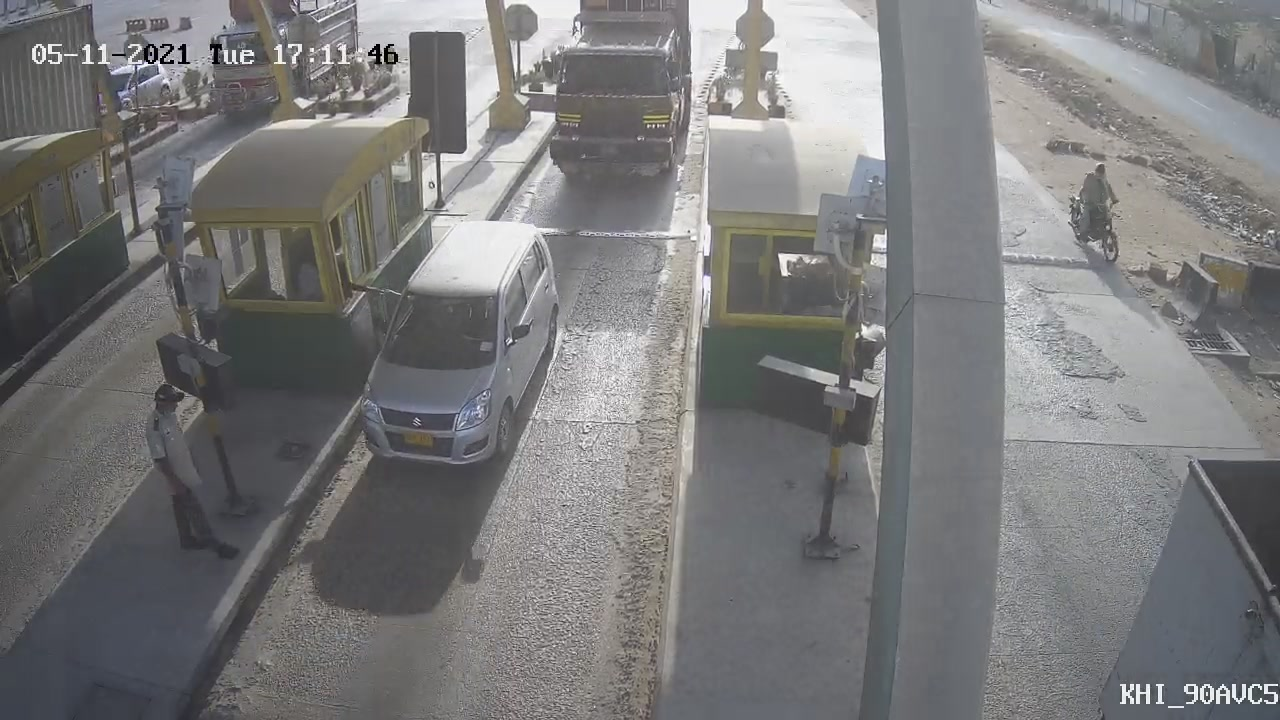F1: (326, 205, 585, 488)
